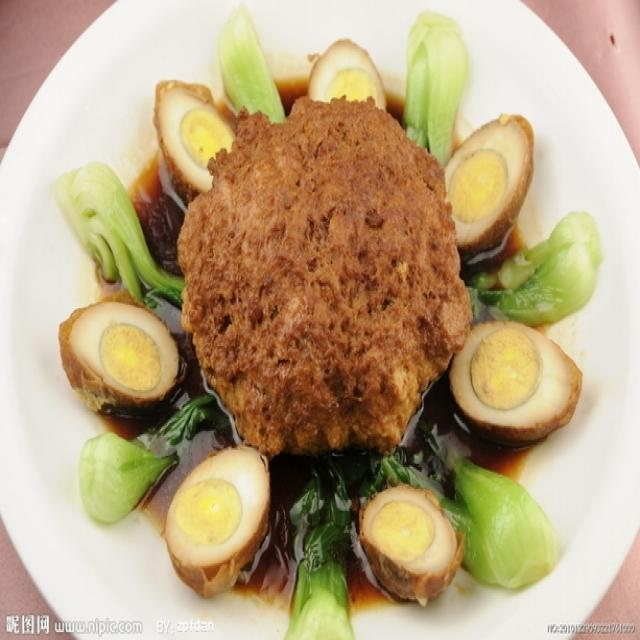Meatball: (173, 93, 478, 467)
